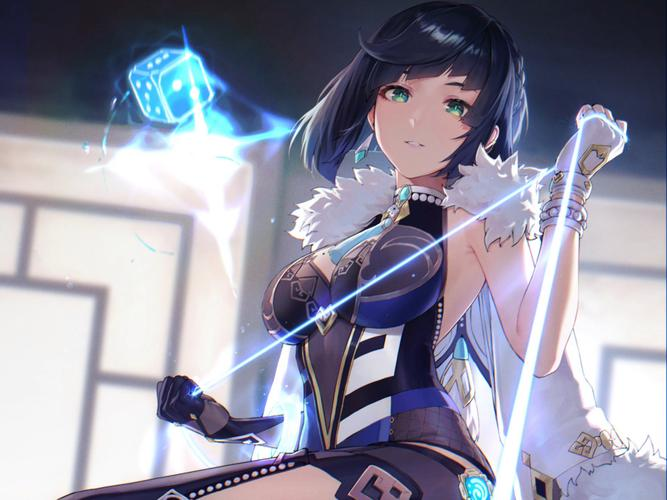夜兰: (50, 1, 630, 500)
